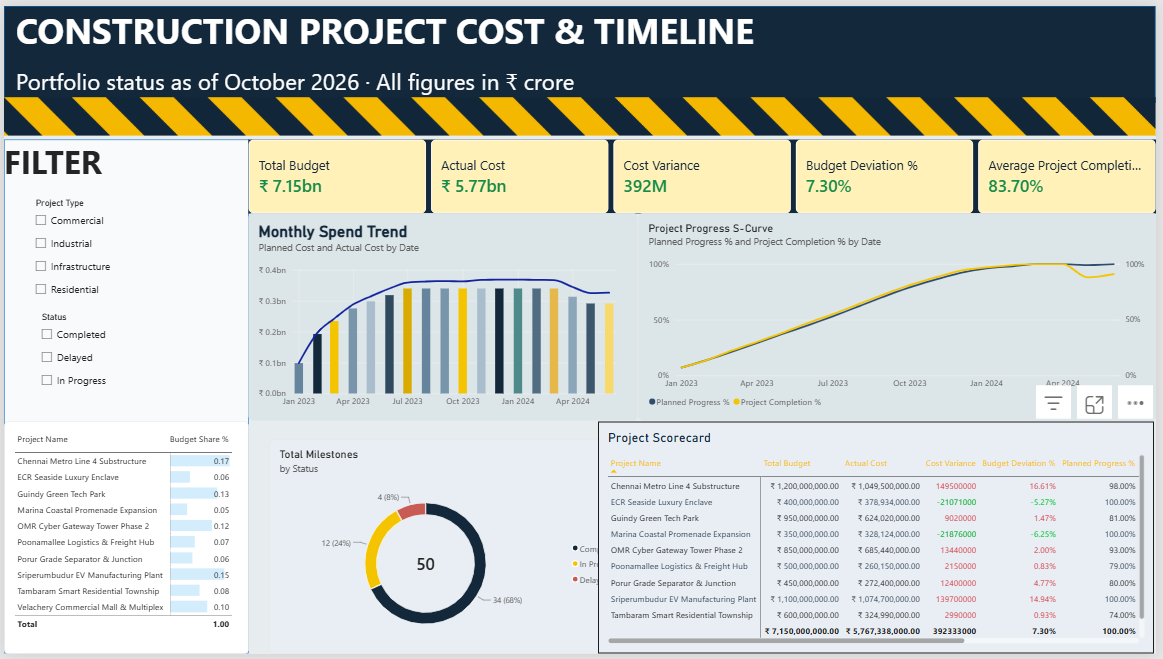

The page's visual inventory and layout, read from the dashboard file:
{"tool":"powerbi","page":{"name":"Page 1","canvas":[1920,1080],"ordinal":0},"visuals":[{"type":"shape","box":[0,223.1,407.7,856.4],"z":0},{"type":"cardVisual","fields":{"Data":["_Measures.Total Budget","_Measures.Actual Cost","_Measures.Cost Variance","_Measures.Budget Deviation %","_Measures.Average Project Completion %"]},"box":[407.7,223.1,1512.8,123.1],"z":1000},{"type":"lineClusteredColumnComboChart","title":"Monthly Spend Trend","fields":{"Category":["Project_Cost.Date"],"Y":["_Measures.Planned Cost"],"Y2":["_Measures.Actual Cost"]},"box":[407.7,346.2,648.7,346.2],"z":4000},{"type":"lineChart","title":"Project Progress S-Curve","fields":{"Category":["Project_Progress.Date"],"Y":["_Measures.Planned Progress %"],"Y2":["_Measures.Project Completion %"]},"box":[1056.4,346.2,864.1,346.2],"z":5000},{"type":"donutChart","fields":{"Category":["Milestones.Status"],"Y":["_Measures.Total Milestones"]},"box":[443.6,723.1,612.8,356.4],"z":6000},{"type":"pivotTable","title":"Project Scorecard","fields":{"Rows":["Projects.Project Name"],"Values":["_Measures.Total Budget","_Measures.Actual Cost","_Measures.Cost Variance","_Measures.Budget Deviation %","_Measures.Planned Progress %","_Measures.Project Completion %","_Measures.Milestone Completion %"]},"box":[989.7,692.3,928.2,387.2],"z":7000},{"type":"shape","box":[0,0,1919.1,161.6],"z":8000},{"type":"textbox","box":[19.8,0,1272.8,119.1],"z":9000},{"type":"textbox","box":[19.8,99.2,961,85],"z":10000},{"type":"image","box":[0,150.2,1919.1,68],"z":11000},{"type":"textbox","box":[0,223.1,400,351.3],"z":11001},{"type":"slicer","fields":{"Values":["Projects.Project Type"]},"box":[46.2,320.5,353.8,189.7],"z":11002},{"type":"slicer","fields":{"Values":["Projects.Status"]},"box":[53.8,510.3,300,182.1],"z":11003},{"type":"tableEx","fields":{"Values":["Projects.Project Name","Milestones.Budget Share %"]},"box":[0,692.3,407.7,387.2],"z":11004}]}

Visuals, with their boxes in screenshot pixels (x1, y1, x2, y2), scaled from the page's 1920x1080 canvas onto the 1163x659 screenshot:
shape: 0:136:247:658
cardVisual - _Measures.Total Budget x _Measures.Actual Cost: 247:136:1162:211
"Monthly Spend Trend" lineClusteredColumnComboChart: 247:211:640:422
"Project Progress S-Curve" lineChart: 640:211:1162:422
donutChart - Milestones.Status x _Measures.Total Milestones: 269:441:640:658
"Project Scorecard" pivotTable: 599:422:1162:658
shape: 0:0:1162:99
textbox: 12:0:783:73
textbox: 12:61:594:112
image: 0:92:1162:133
textbox: 0:136:242:350
slicer - Projects.Project Type: 28:196:242:311
slicer - Projects.Status: 33:311:214:422
tableEx - Projects.Project Name x Milestones.Budget Share %: 0:422:247:658
